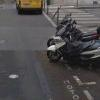Motorcycle: (38, 23, 100, 73)
